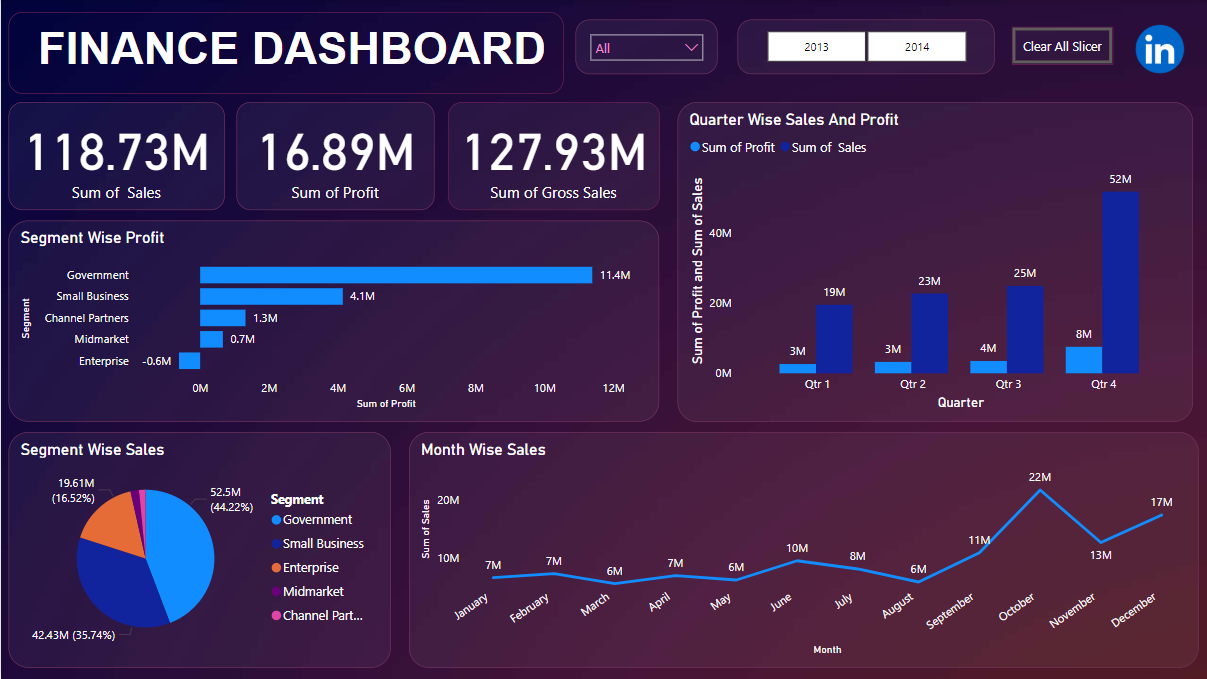

What the dashboard file says about the page in this screenshot:
{"tool":"powerbi","page":{"name":"Finance Dashboard","canvas":[1280,720],"ordinal":0},"visuals":[{"type":"textbox","box":[8.4,12.1,588.7,86.9],"z":0},{"type":"lineChart","title":"Month Wise Sales","fields":{"Y":["Sum(financials. Sales)"],"Category":["financials.Date.Variation.Date Hierarchy.Month"]},"box":[431.9,458.4,837.3,249.7],"z":1000},{"type":"card","title":"Sales by Month","fields":{"Values":["Sum(financials. Sales)"]},"box":[8.4,108.6,229.2,114.6],"z":2000},{"type":"card","title":"Sales by Month","fields":{"Values":["Sum(financials.Profit)"]},"box":[249.7,108.6,209.9,114.6],"z":3000},{"type":"card","title":"Sales by Month","fields":{"Values":["Sum(financials.Gross Sales)"]},"box":[474.1,108.6,224.4,114.6],"z":4000},{"type":"slicer","title":"Sales by Month","fields":{"Values":["financials.Year"]},"box":[780.6,20.5,272.7,57.9],"z":5000},{"type":"actionButton","title":"Clear","box":[1072.5,29,107.4,39.8],"z":6000},{"type":"slicer","title":"Sales by Month","fields":{"Values":["financials.Country"]},"box":[609.3,20.5,150.8,57.9],"z":7000},{"type":"pieChart","title":"Segment Wise Sales","fields":{"Category":["financials.Segment"],"Y":["Sum(financials. Sales)"]},"box":[8.4,458.4,405.4,249.7],"z":8000},{"type":"clusteredColumnChart","title":"Quarter Wise Sales And Profit","fields":{"Category":["financials.Date.Variation.Date Hierarchy.Quarter"],"Y":["Sum(financials.Profit)","Sum(financials. Sales)"]},"box":[716.6,108.6,546.5,339],"z":9000},{"type":"clusteredBarChart","title":"Segment Wise Profit","fields":{"Category":["financials.Segment"],"Y":["Sum(financials.Profit)"]},"box":[8.4,234,690.1,213.5],"z":10000}]}

Visuals, with their boxes in screenshot pixels (x1, y1, x2, y2), scaled from the page's 1280x720 canvas onto the 1207x679 screenshot:
textbox: 8 11 563 93
"Month Wise Sales" lineChart: 407 432 1197 668
"Sales by Month" card: 8 102 224 210
"Sales by Month" card: 235 102 433 210
"Sales by Month" card: 447 102 659 210
"Sales by Month" slicer: 736 19 993 74
"Clear" actionButton: 1011 27 1113 65
"Sales by Month" slicer: 575 19 717 74
"Segment Wise Sales" pieChart: 8 432 390 668
"Quarter Wise Sales And Profit" clusteredColumnChart: 676 102 1191 422
"Segment Wise Profit" clusteredBarChart: 8 221 659 422
